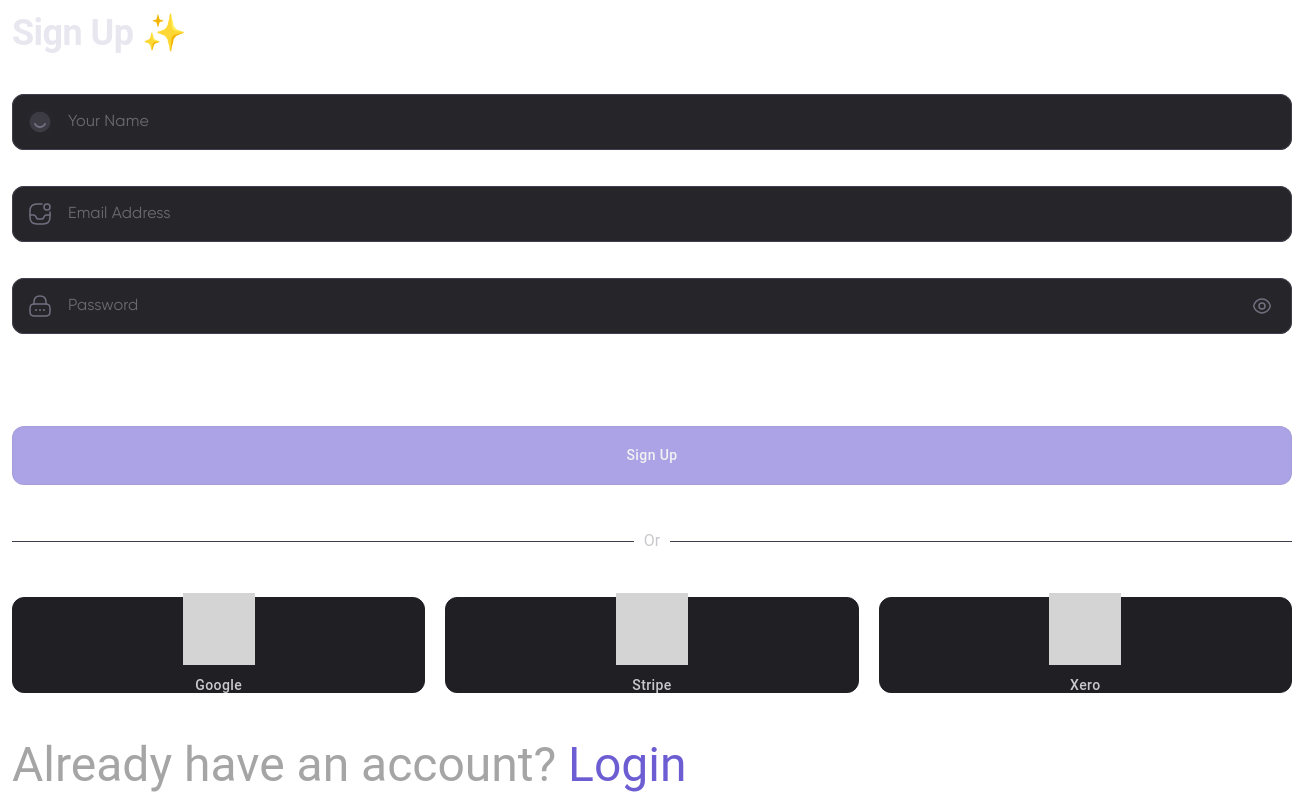
Test: SignUp Component › it should enable the "Continue" button with valid email and password
Type "testing" into the field with placeholder "Your Name".
click(668, 122); type("testing")  # box [60,106,1276,138]
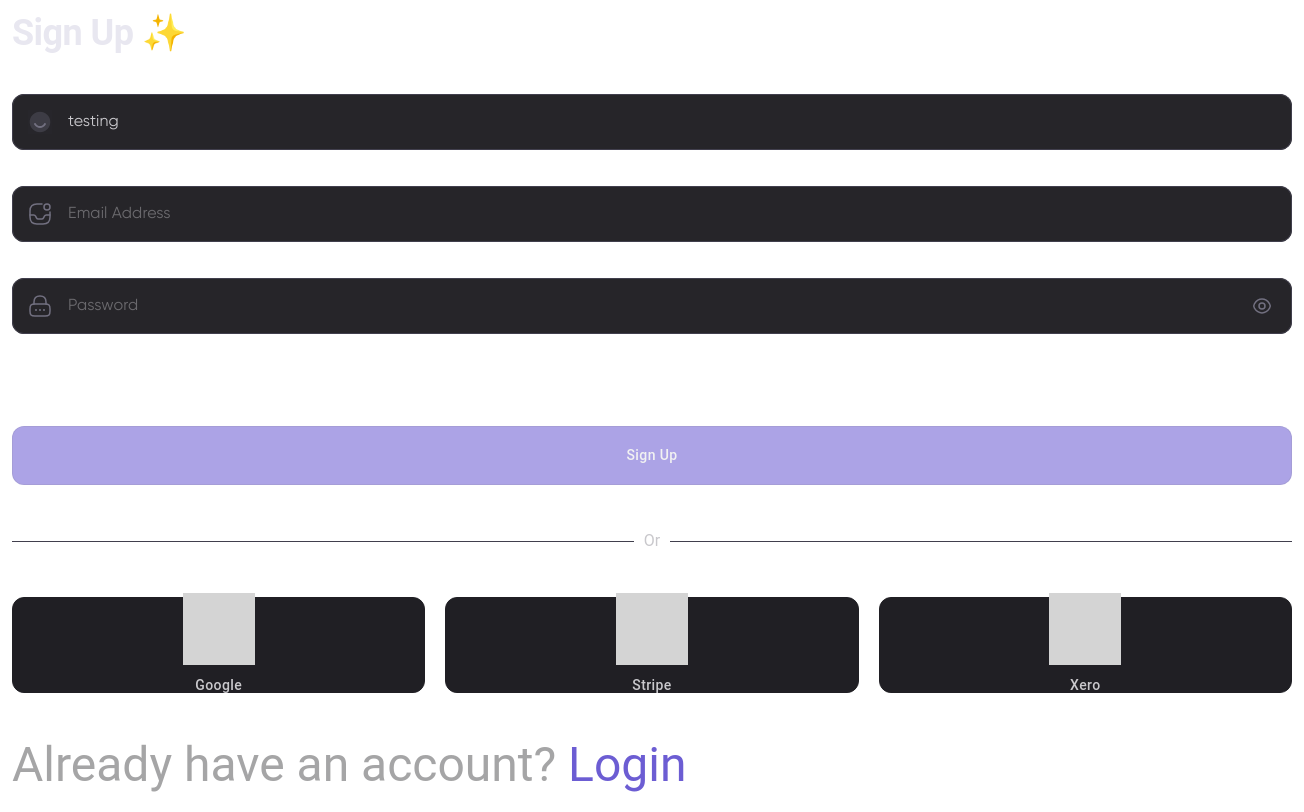
Type "test@gmail.com" into the field with placeholder "Email Address".
click(668, 214); type("test@gmail.com")  # box [60,198,1276,230]
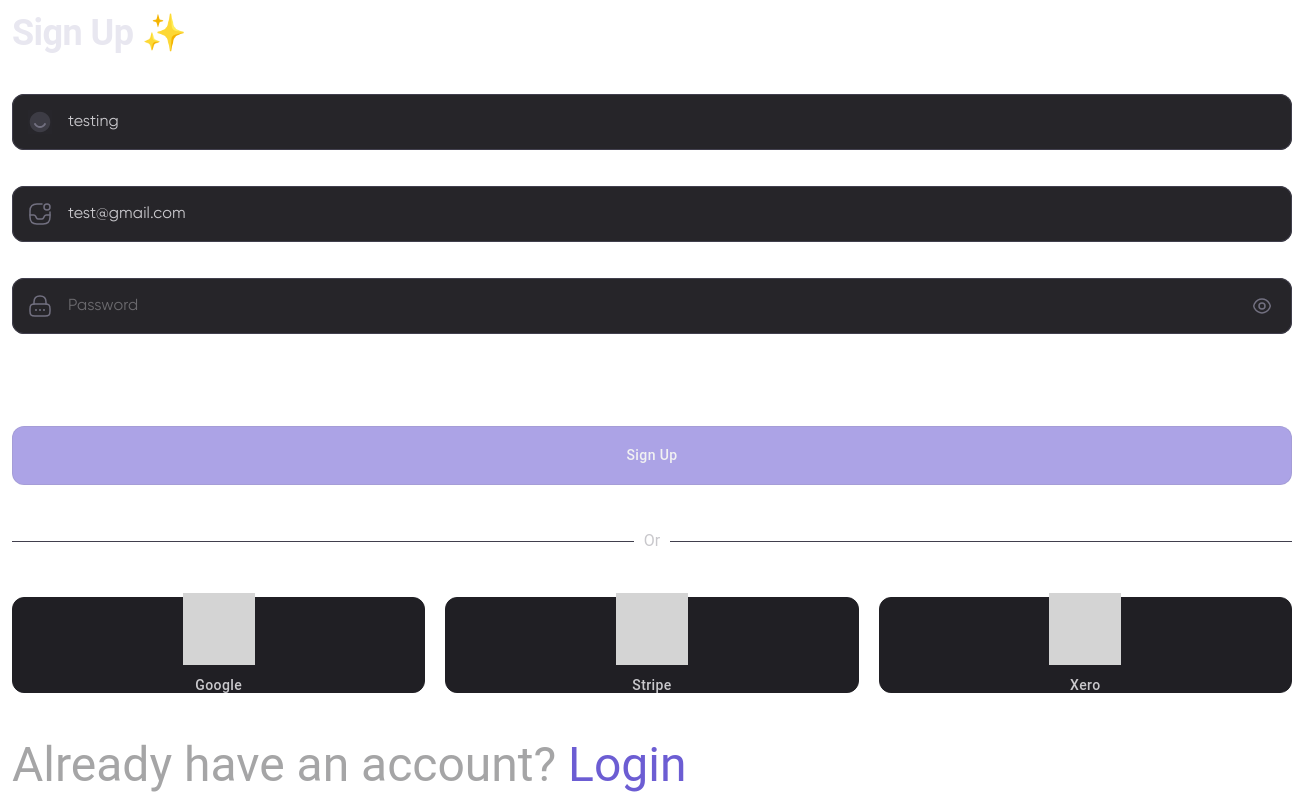
Type "Abcd@1234" into the password field with placeholder "Password".
click(652, 306); type("Abcd@1234")  # box [60,290,1244,322]
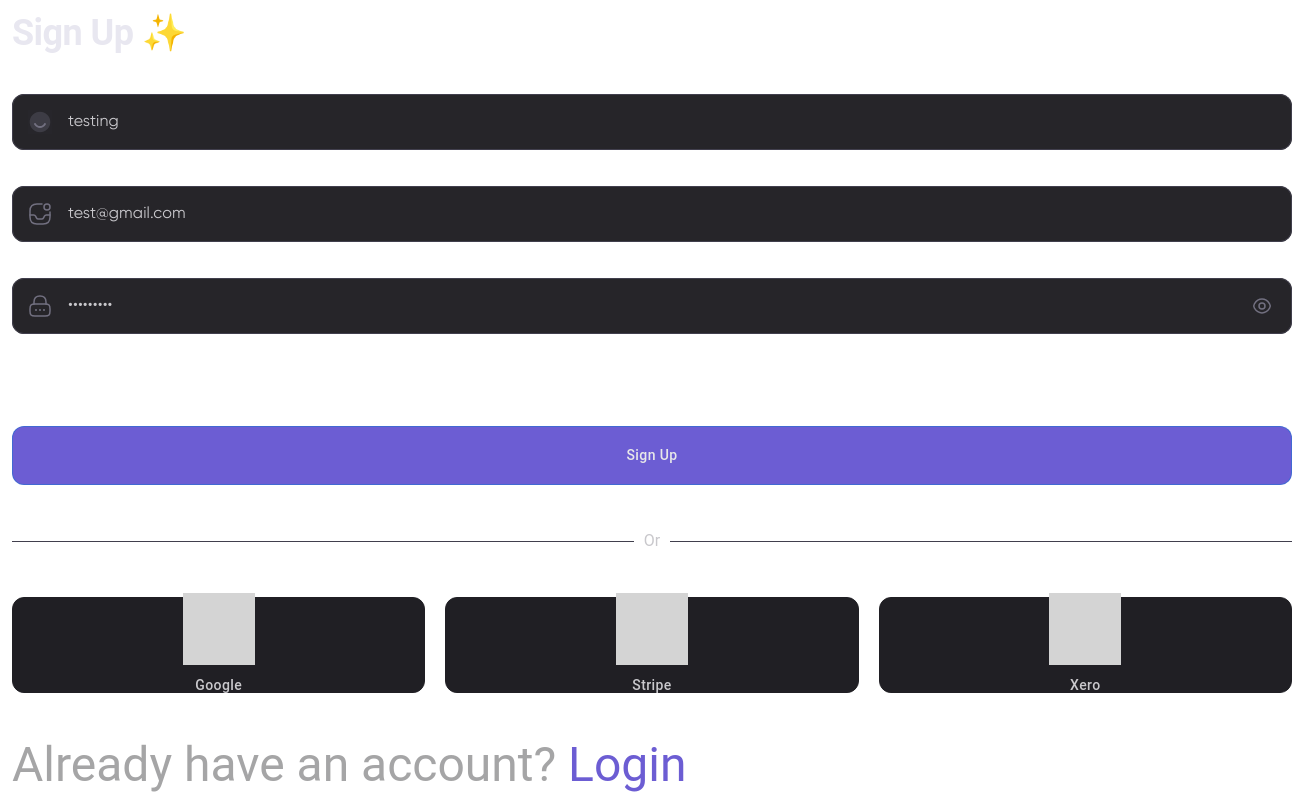
Now the button with test id "SignupButton" is enabled, box [12,426,1292,485]
